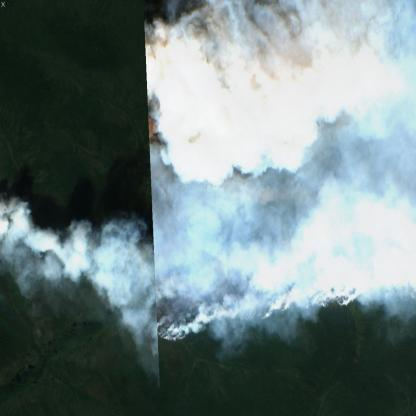fire: (144, 101, 416, 342)
